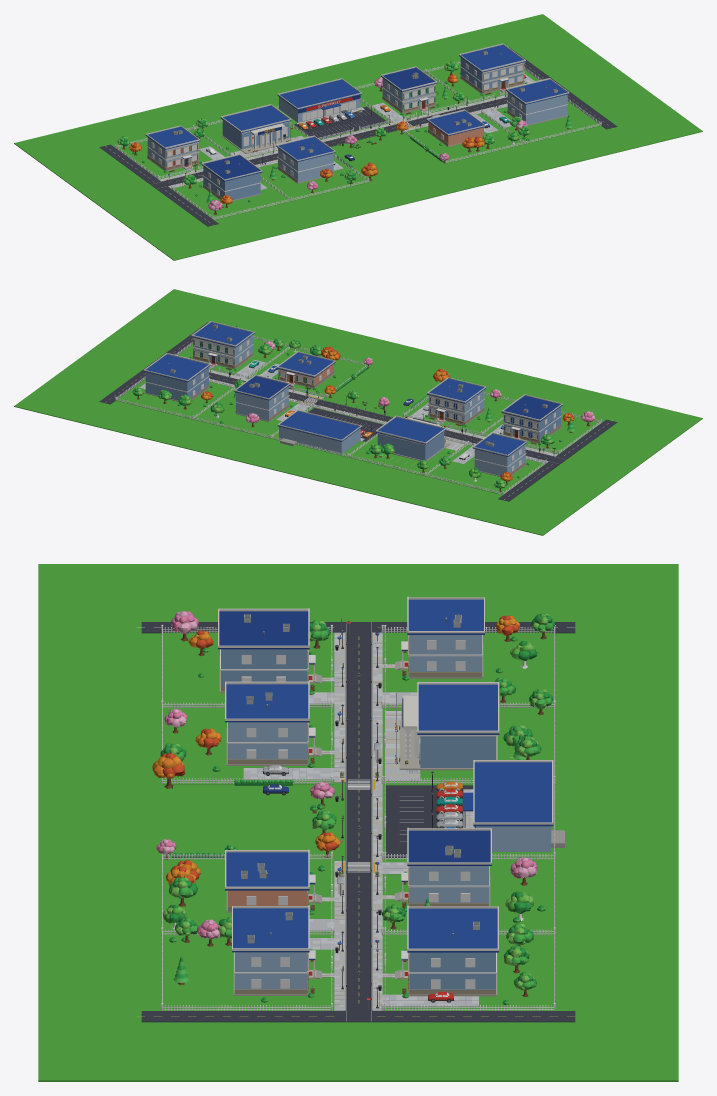
Rendered from OfficeDadBiome_V2.fbx.
3 views of the same model, one above another, from view 1: azimuth 30°, elevation 25°; view 2: azimuth 150°, elevation 25°; view 3: azimuth 270°, elevation 25° (orthographic). The views are drawn at different scales.
Visible parts, largest first — view 1: O_Biome_1_0_0, O_Biome_8_-2_0, O_Biome_-2_-2_0, O_Biome_5_-2_0, O_Biome_8_2_0, O_Biome_-2_2_0, O_Biome_5_2_0, O_Biome_-6_2_0, O_Biome_-5_-2_0, O_Biome_-6_-2_0, O_Biome_1_2_0, O_Biome_1_3_0 (+7 smaller); view 2: O_Biome_1_0_0, O_Biome_8_2_0, O_Biome_-6_2_0, O_Biome_-2_2_0, O_Biome_5_2_0, O_Biome_-2_-2_0, O_Biome_8_-2_0, O_Biome_1_3_0, O_Biome_5_-2_0, O_Biome_-5_-2_0, O_Biome_-8_0_0, O_Biome_-6_-2_0 (+5 smaller); view 3: O_Biome_1_0_0, O_Biome_8_-2_0, O_Biome_8_2_0, O_Biome_-2_-2_0, O_Biome_-6_2_0, O_Biome_5_2_0, O_Biome_-2_2_0, O_Biome_5_-2_0, O_Biome_1_3_0, O_Biome_-5_-2_0, O_Biome_-6_-2_0, O_Biome_10_0_0 (+11 smaller).
Part boxes in pixels (<box>): O_Biome_1_0_0: <box>14,14,702,260</box>; O_Biome_8_-2_0: <box>483,79,600,144</box>; O_Biome_-2_-2_0: <box>258,137,368,200</box>; O_Biome_5_-2_0: <box>404,110,523,163</box>; O_Biome_8_2_0: <box>426,44,539,103</box>; O_Biome_-2_2_0: <box>194,105,306,158</box>; O_Biome_5_2_0: <box>357,66,467,122</box>; O_Biome_-6_2_0: <box>116,125,228,179</box>; O_Biome_-5_-2_0: <box>201,154,262,201</box>; O_Biome_-6_-2_0: <box>172,163,290,219</box>; O_Biome_1_2_0: <box>277,92,390,139</box>; O_Biome_1_3_0: <box>277,79,361,122</box>; O_Biome_1_0_0: <box>14,289,702,535</box>; O_Biome_8_2_0: <box>116,354,233,419</box>; O_Biome_-6_2_0: <box>426,434,544,494</box>; O_Biome_-2_2_0: <box>348,417,466,475</box>; O_Biome_5_2_0: <box>193,375,312,438</box>; O_Biome_-2_-2_0: <box>403,378,513,435</box>; O_Biome_8_-2_0: <box>177,321,289,378</box>; O_Biome_1_3_0: <box>277,411,361,454</box>; O_Biome_5_-2_0: <box>249,348,365,398</box>; O_Biome_-5_-2_0: <box>501,394,562,443</box>; O_Biome_-8_0_0: <box>498,419,617,501</box>; O_Biome_-6_-2_0: <box>481,403,600,454</box>; O_Biome_1_0_0: <box>38,564,678,1081</box>; O_Biome_8_-2_0: <box>162,906,334,1010</box>; O_Biome_8_2_0: <box>382,908,554,1010</box>; O_Biome_-2_-2_0: <box>162,684,334,784</box>; O_Biome_-6_2_0: <box>382,597,554,708</box>; O_Biome_5_2_0: <box>382,830,554,935</box>; O_Biome_-2_2_0: <box>382,684,554,783</box>; O_Biome_5_-2_0: <box>162,852,334,935</box>; O_Biome_1_3_0: <box>473,762,553,851</box>; O_Biome_-5_-2_0: <box>218,611,309,693</box>; O_Biome_-6_-2_0: <box>162,608,334,708</box>; O_Biome_10_0_0: <box>141,987,575,1022</box>.
Size of the model in its own units: 905 by 43.29 by 474.
